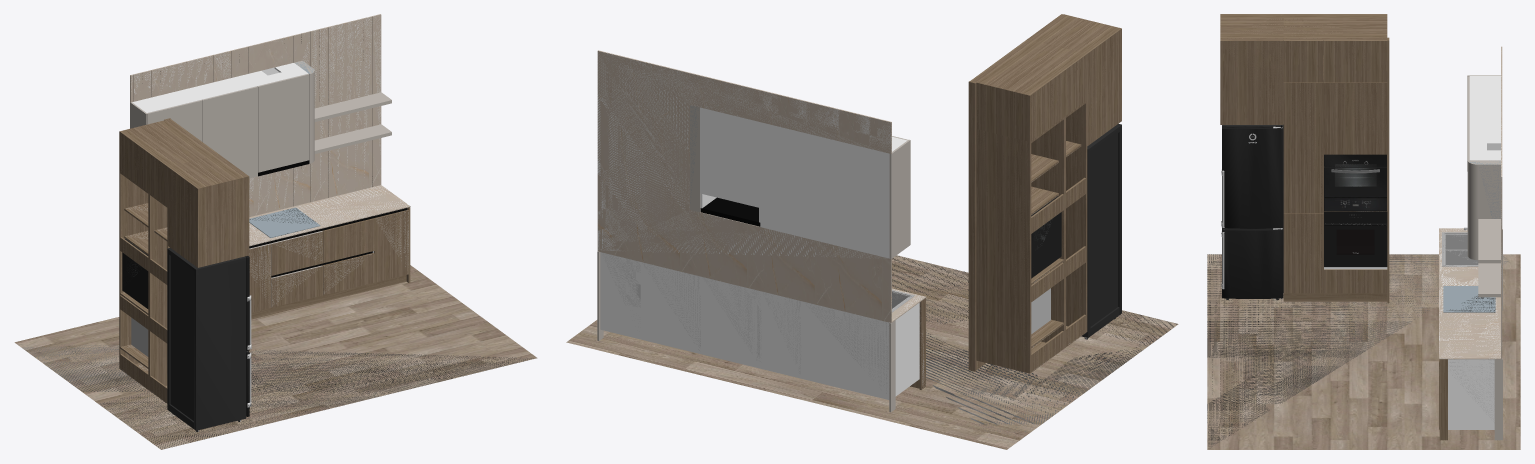
Rendered from vildwert.glb.
The picture shows the model from 3 angles, left to right: view 1: azimuth 30°, elevation 25°; view 2: azimuth 150°, elevation 25°; view 3: azimuth 270°, elevation 25°; orthographic projection. The views are drawn at different scales.
Parts seen in each view (by area): view 1: surfaces; view 2: surfaces; view 3: surfaces.
Boxes of the visible parts, <box> form: surfaces: <box>14,14,537,449</box>; surfaces: <box>566,14,1178,449</box>; surfaces: <box>1207,14,1520,449</box>.
Size of the model in its own units: 4.38 by 2.75 by 2.96.
36 materials, 13 textured.
